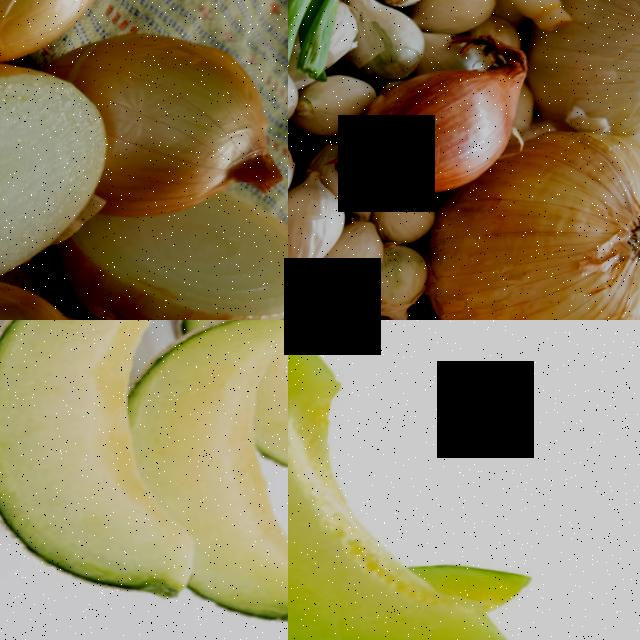melon: (0, 320, 217, 623), (135, 320, 288, 640), (288, 328, 430, 640)
onion: (94, 30, 274, 222), (435, 178, 640, 320), (65, 214, 288, 320), (343, 74, 518, 200), (0, 77, 94, 295), (0, 0, 113, 81)
